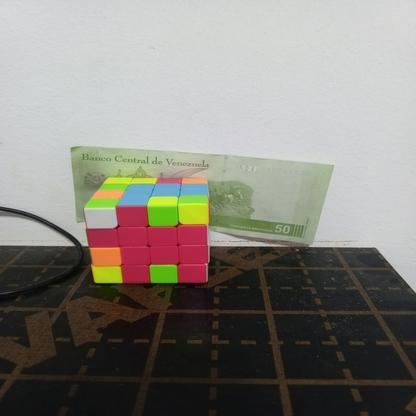fifty-back-vef: (69, 146, 334, 244)
